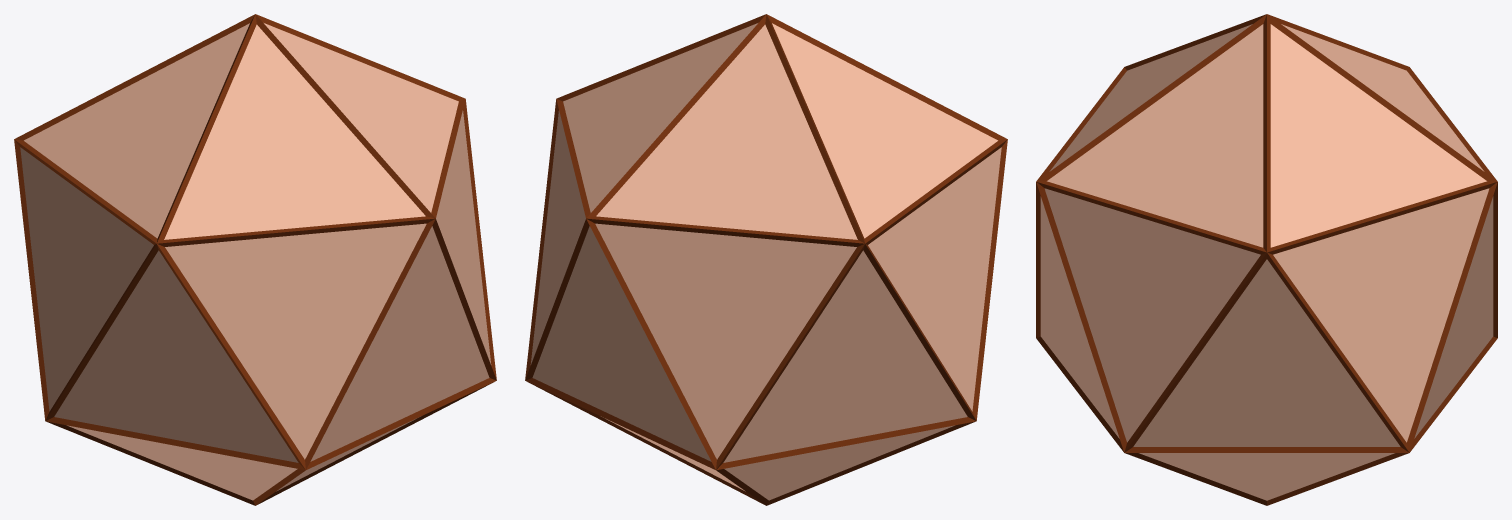
The picture shows the model from 3 angles, left to right: view 1: azimuth 30°, elevation 25°; view 2: azimuth 150°, elevation 25°; view 3: azimuth 270°, elevation 25°; orthographic projection.
Visible parts, largest first — view 1: Icosphere.002; view 2: Icosphere.002; view 3: Icosphere.002.
Part boxes in pixels (left/top/right/bottom): Icosphere.002: left=14, top=14, right=496, bottom=505; Icosphere.002: left=525, top=14, right=1007, bottom=505; Icosphere.002: left=1036, top=14, right=1497, bottom=505.
Bounding box in the file's own units: 1.81 × 2.03 × 1.73.
1 material, 1 textured.
